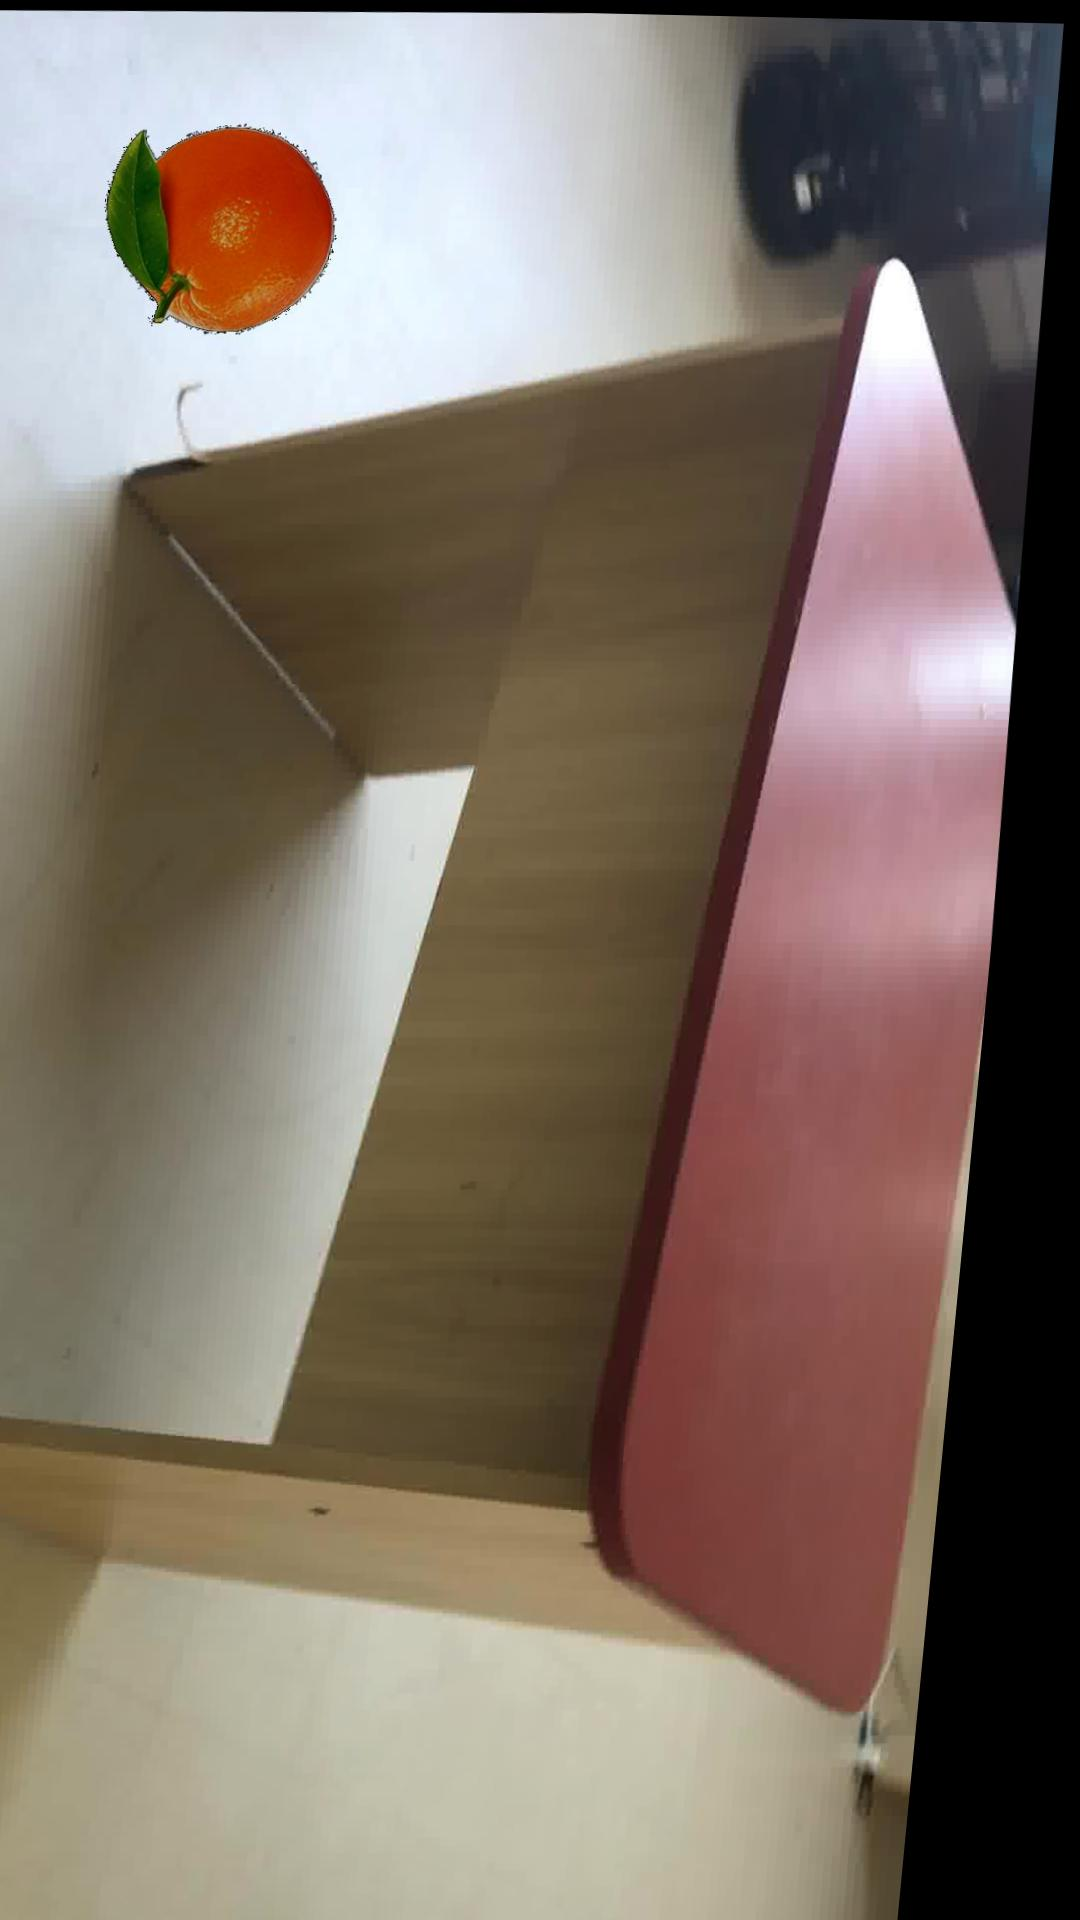orange: (107, 123, 336, 330)
